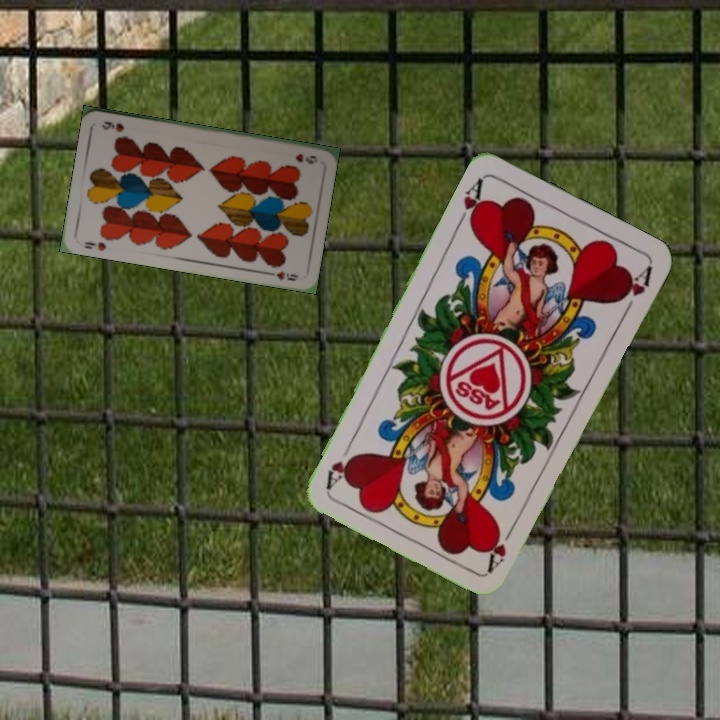H9: (291, 150, 321, 167), (80, 237, 109, 253)
HA: (483, 518, 519, 574), (453, 174, 488, 230)
